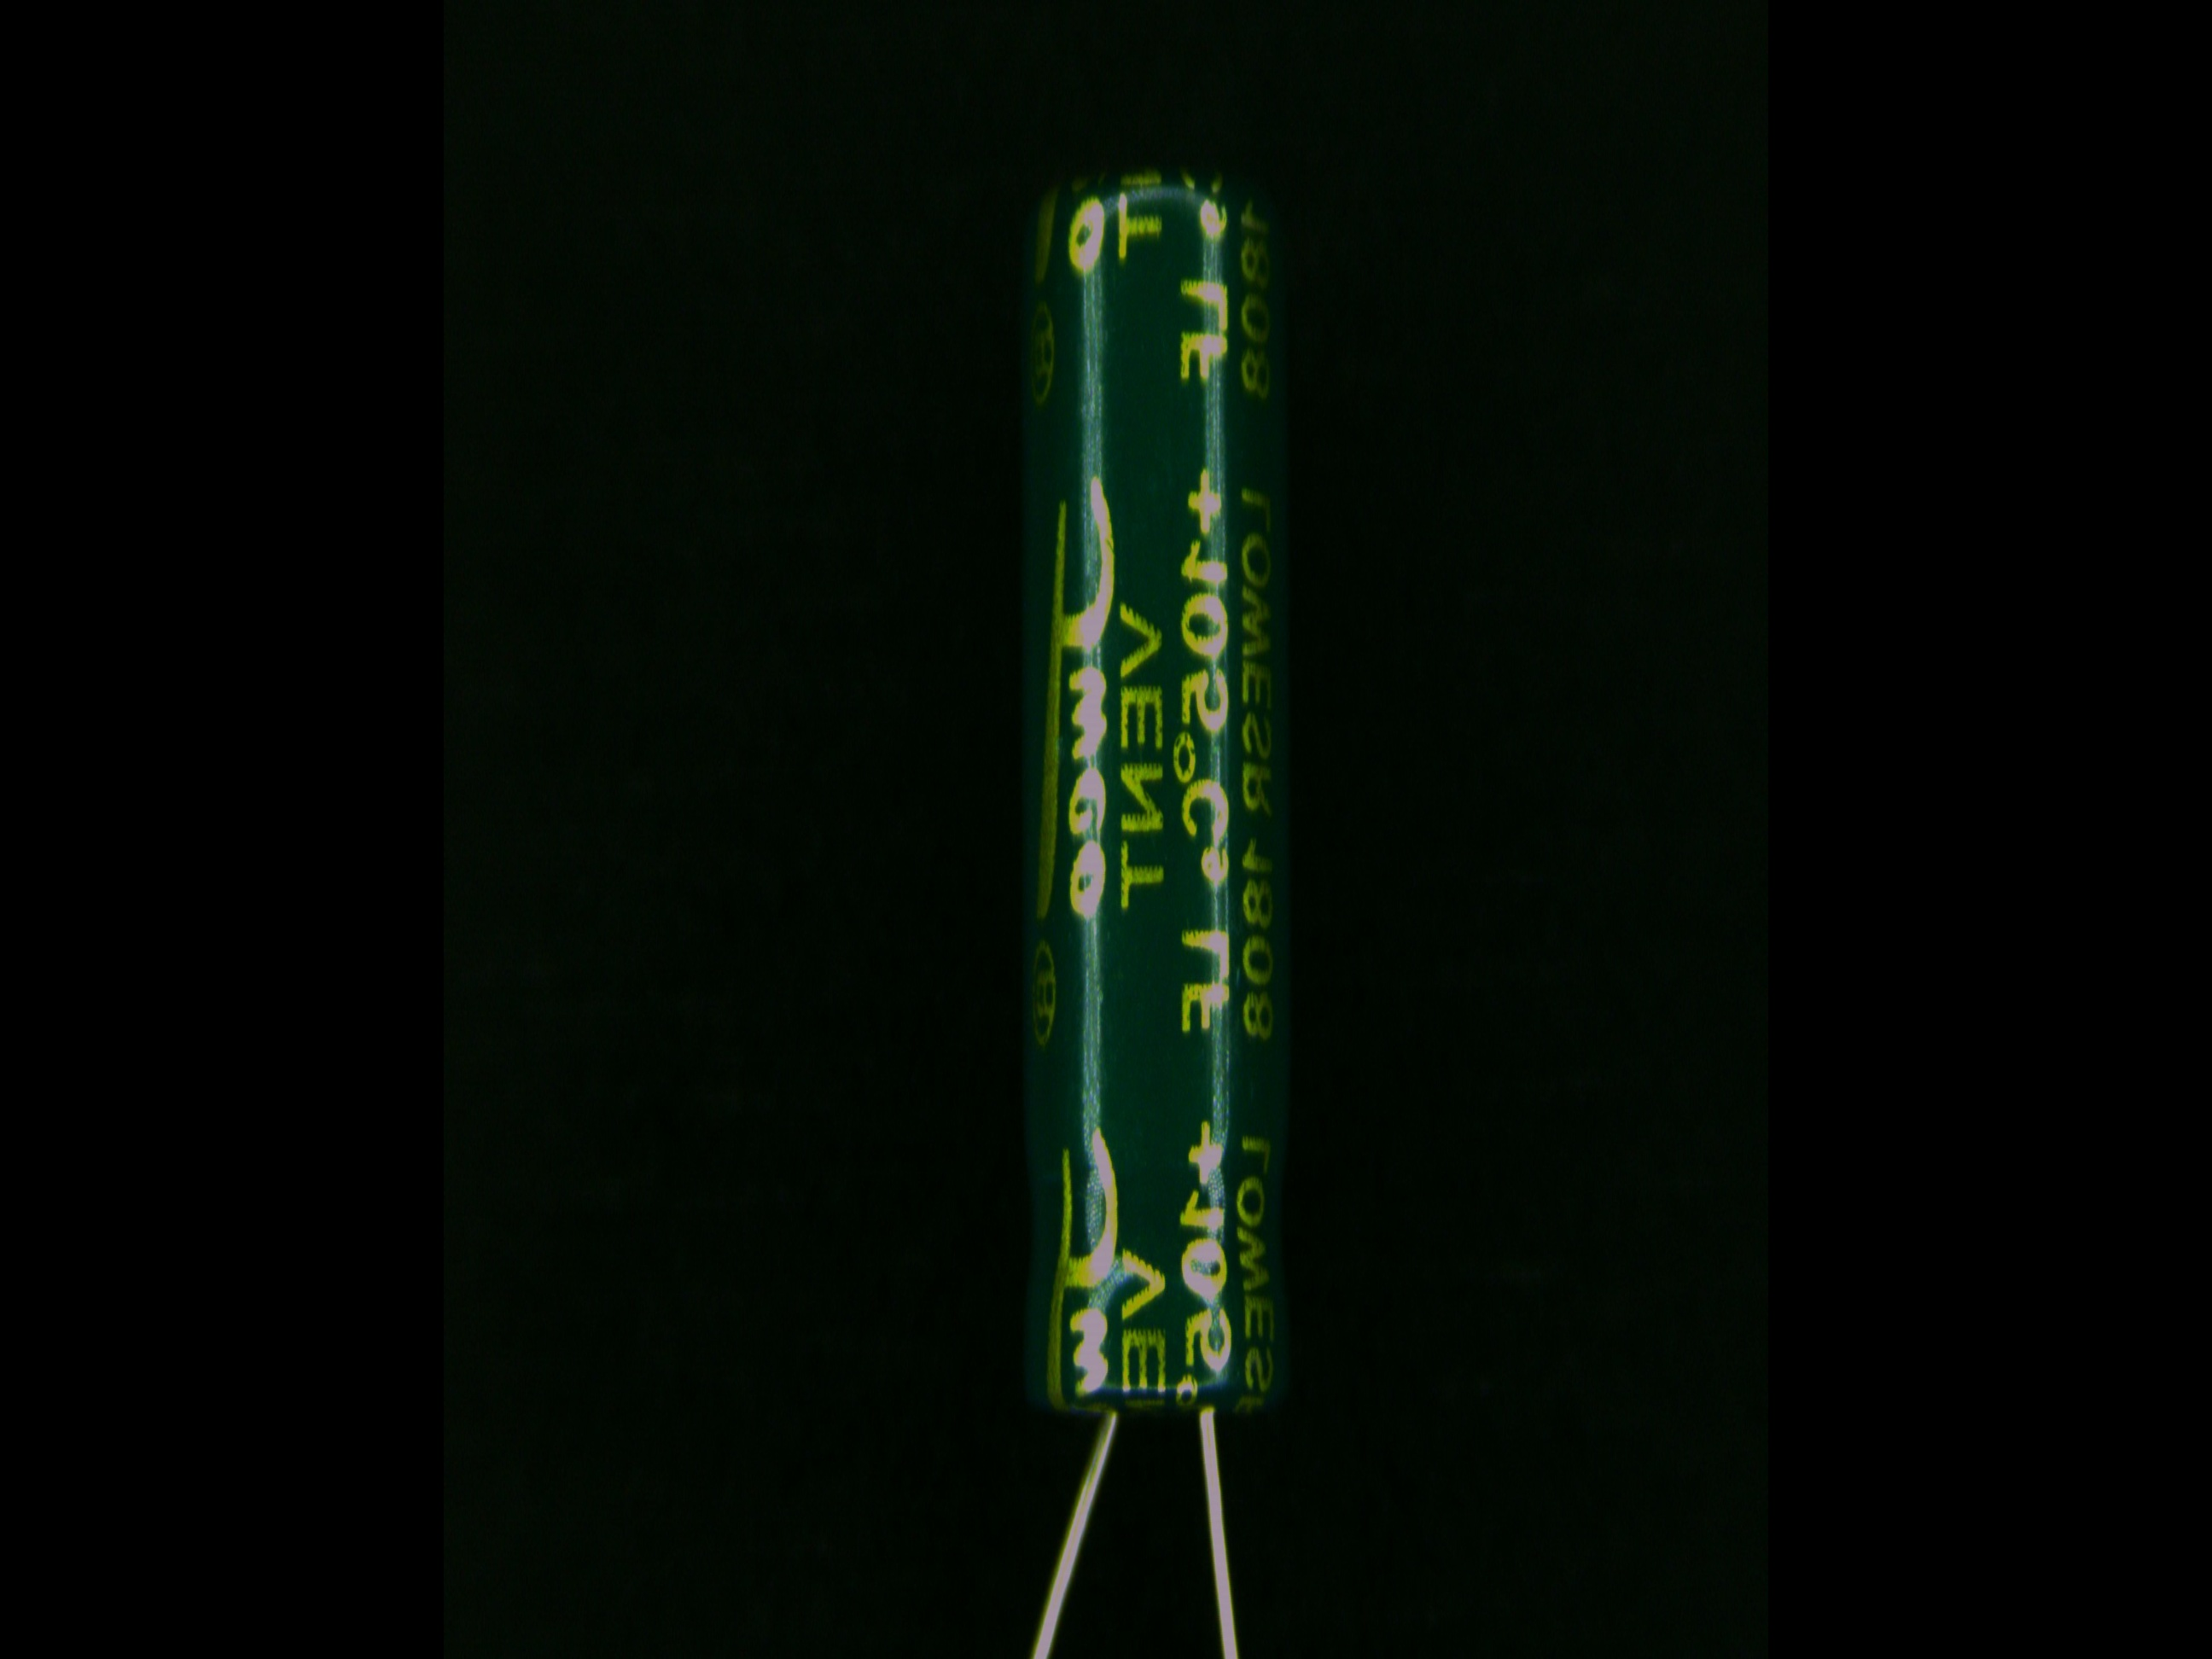c1: (1017, 162, 1291, 1659)
